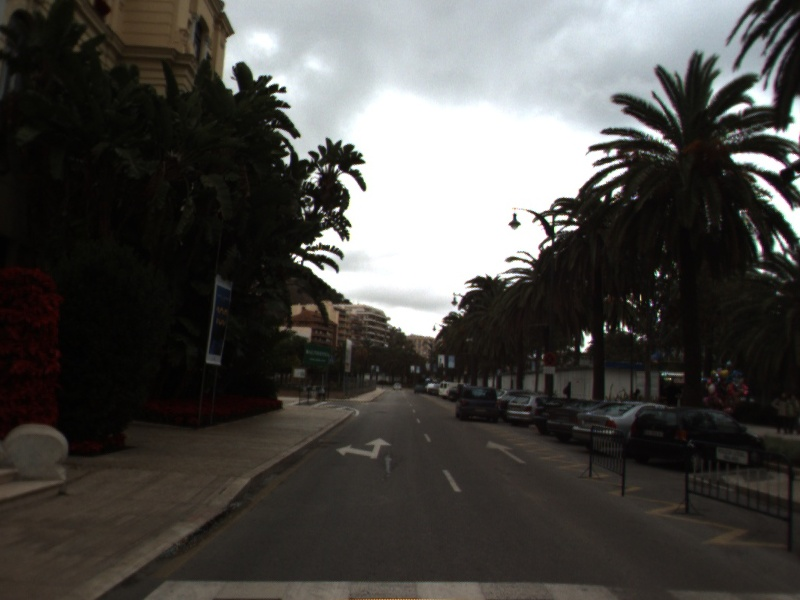STRAIGHT: (483, 438, 529, 465)
STRAIGHT_LEFT: (334, 435, 394, 461)
